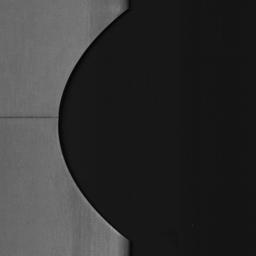Crescent gap: (58, 10, 127, 240)
